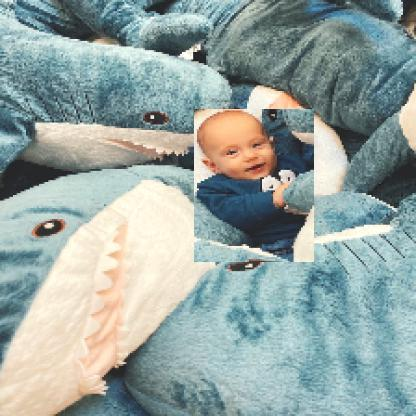child: (195, 111, 316, 265)
